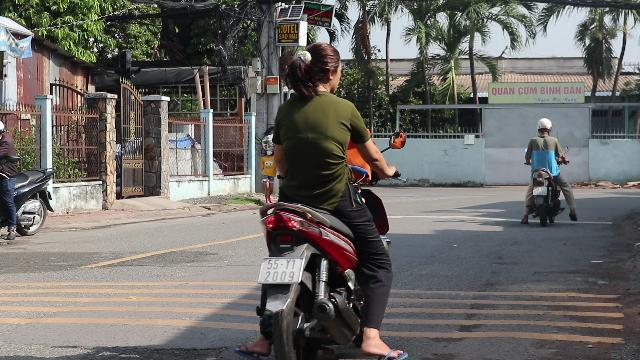licenseplate: (259, 258, 301, 282)
motorcyclist: (248, 40, 404, 356)
nohelmet: (286, 41, 344, 103)
